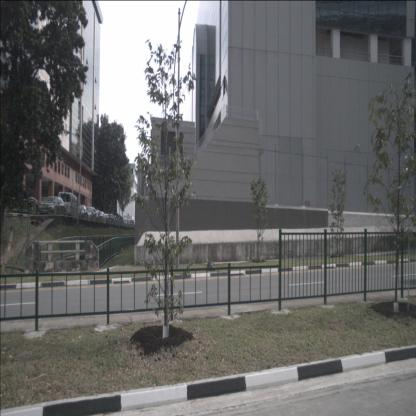vehicle-car: (2, 187, 38, 215), (39, 196, 66, 215), (58, 192, 78, 215), (73, 205, 88, 218), (86, 206, 96, 221), (94, 209, 102, 221), (98, 212, 106, 221), (104, 213, 111, 222), (108, 214, 114, 221)
vehicle-truck: (112, 213, 118, 222)
